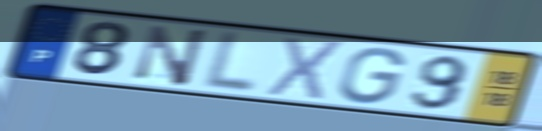8: (72, 20, 133, 77)
9: (413, 53, 471, 112)
G: (336, 46, 408, 107)
L: (197, 28, 261, 96)
N: (132, 23, 212, 89)
X: (263, 34, 348, 104)
